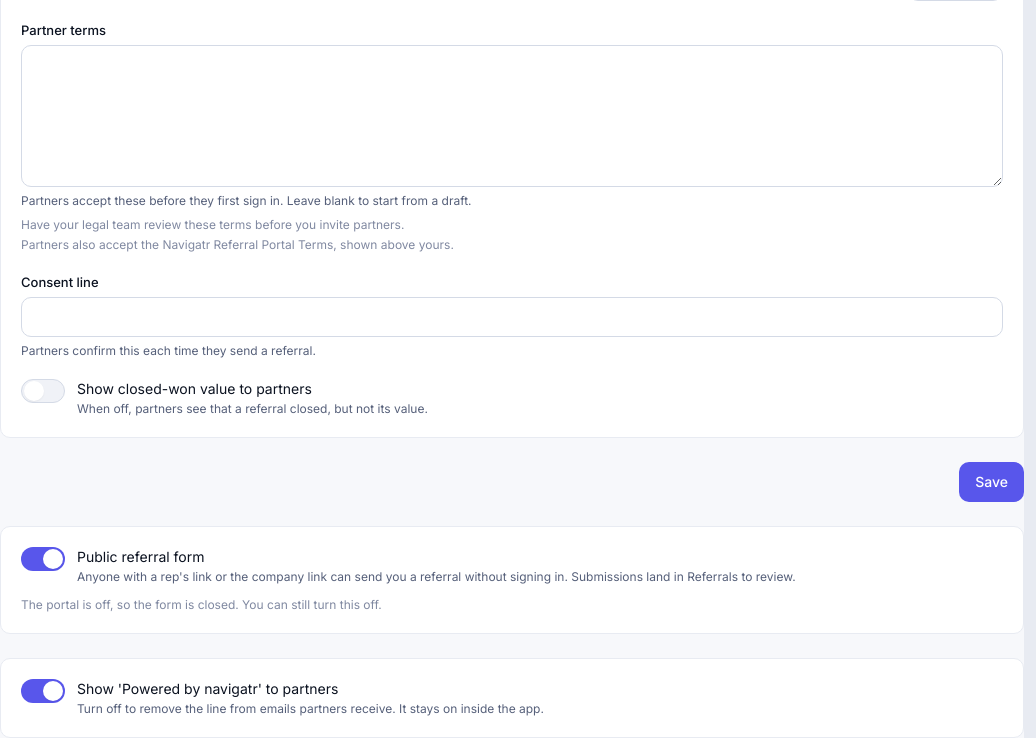
PartnerPortalTab › lets an administrator turn the form off while the portal is off
(page scrolled)
Expected: the text "The portal is off, so the form is closed. You can still turn this off." is shown, [21,597,382,612]
Expected: the text "Turn on the partner portal and save to use the public form." is not shown
Click the switch named "Public referral form" next to "Public referral form" at [43, 559], box [21,547,65,571]
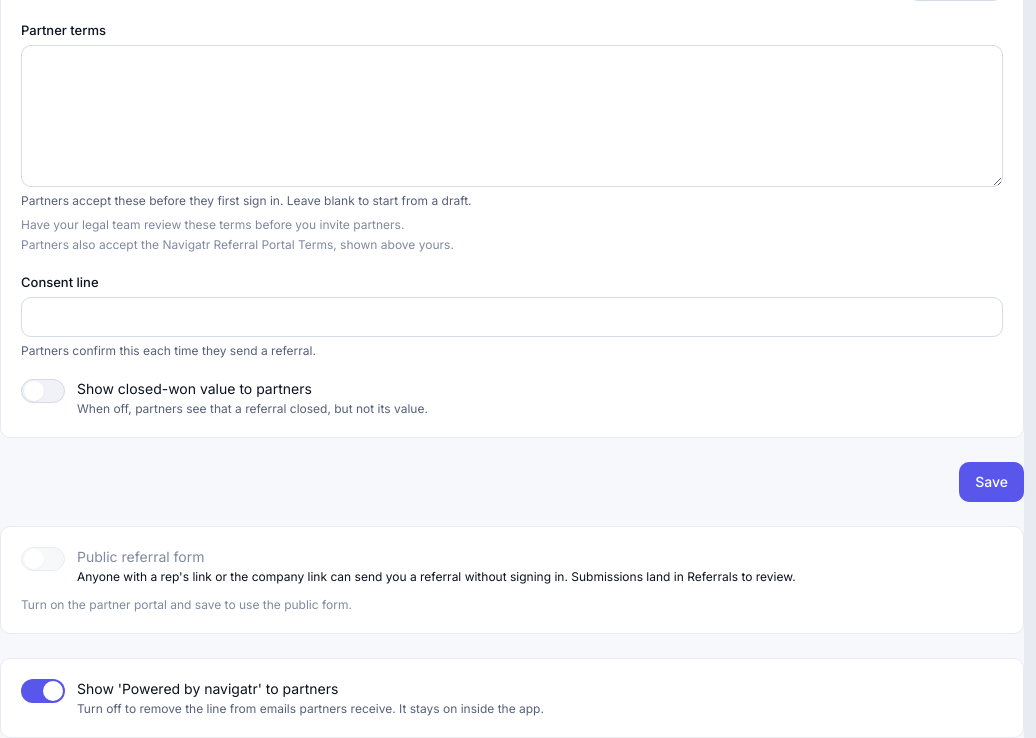
Result: the text "Turn on the partner portal and save to use the public form." is shown at [21,597,352,612]
